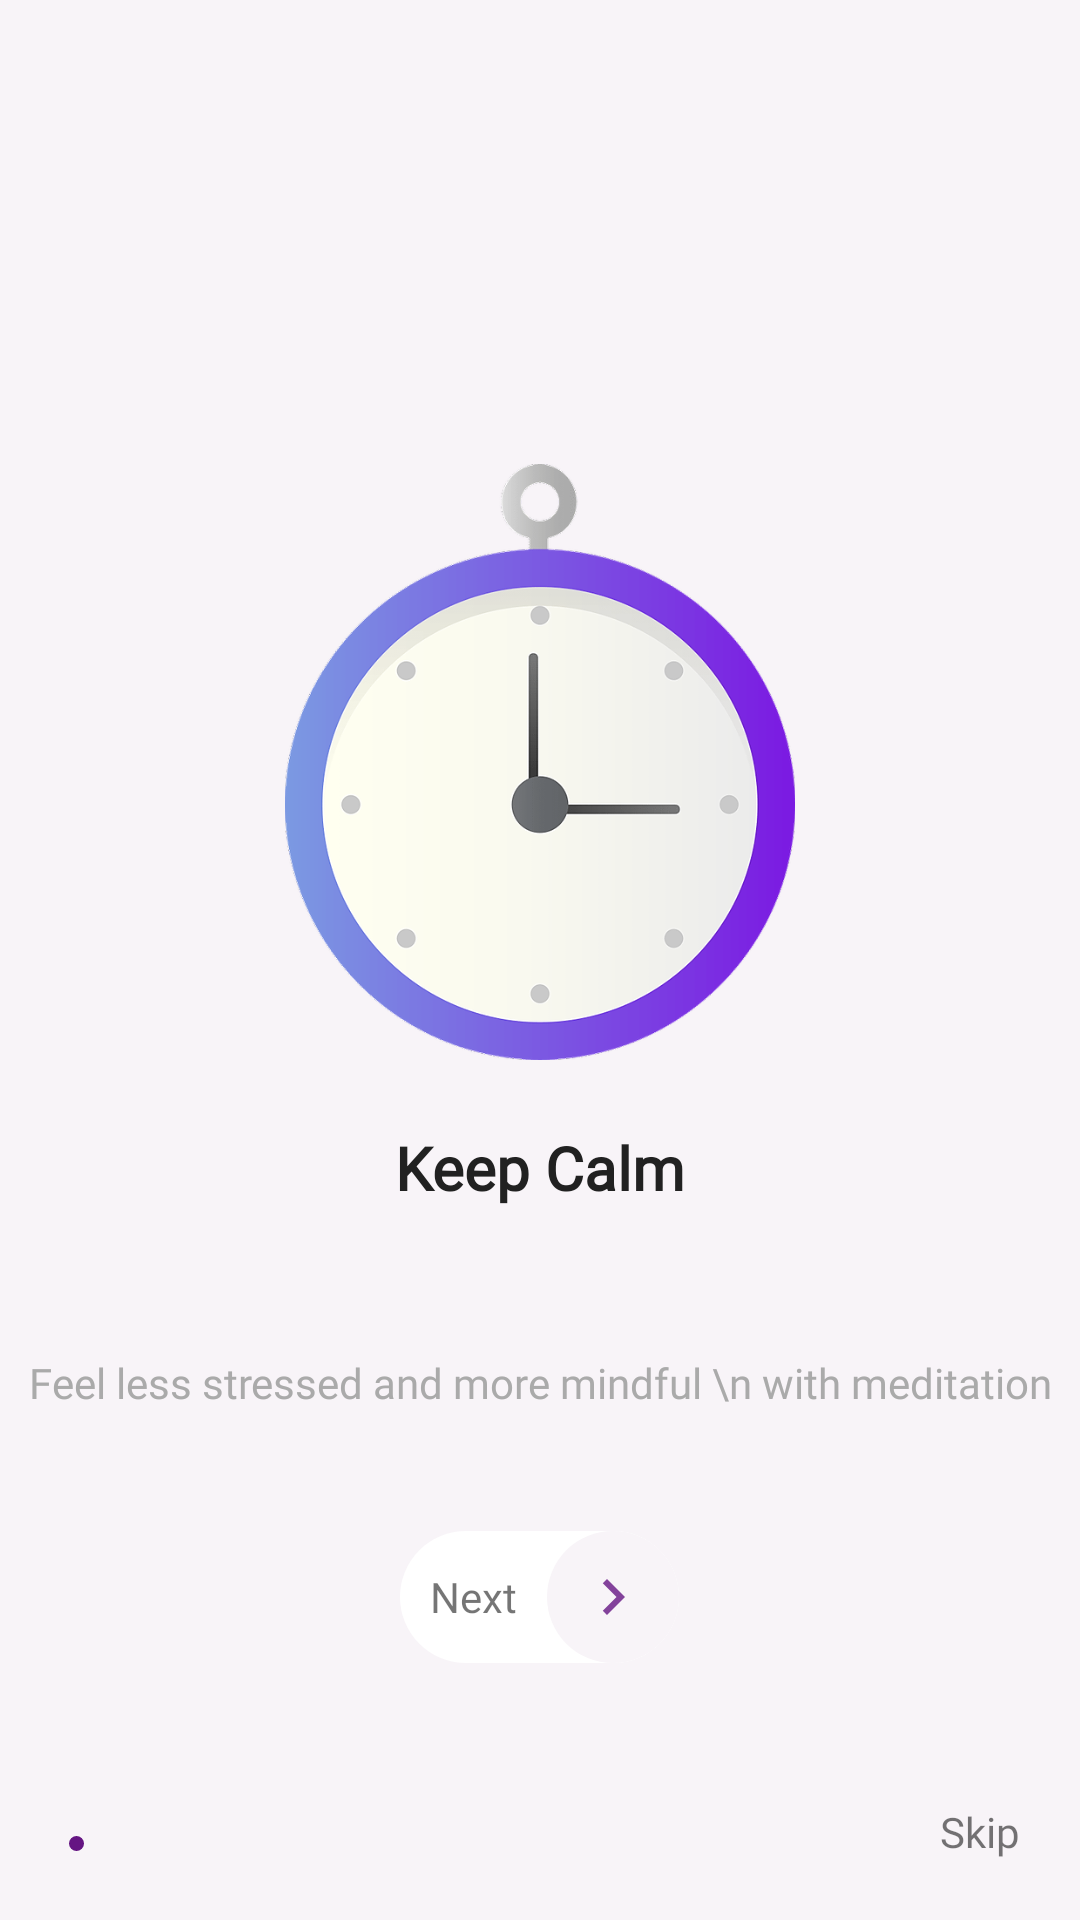

Icon click points for this 1080w x 1920h phone screenshot, format point (x, y):
forward: point (614, 1597)
